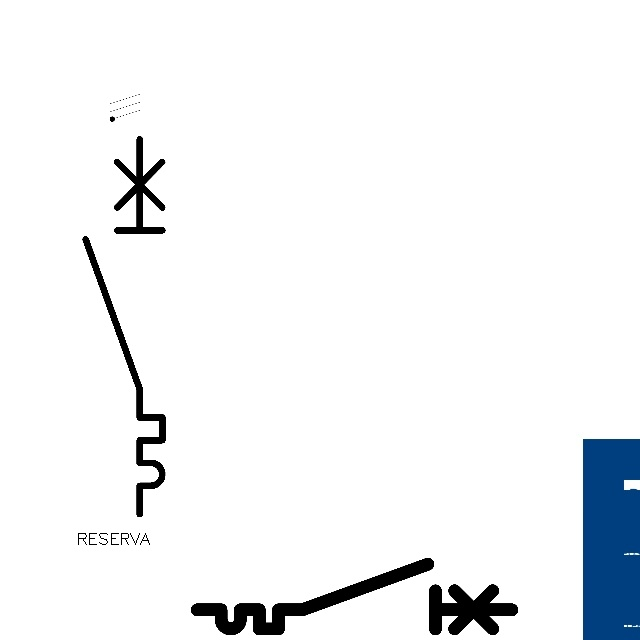interruptor_termomagnetico: (76, 129, 172, 523), (189, 556, 520, 637)
